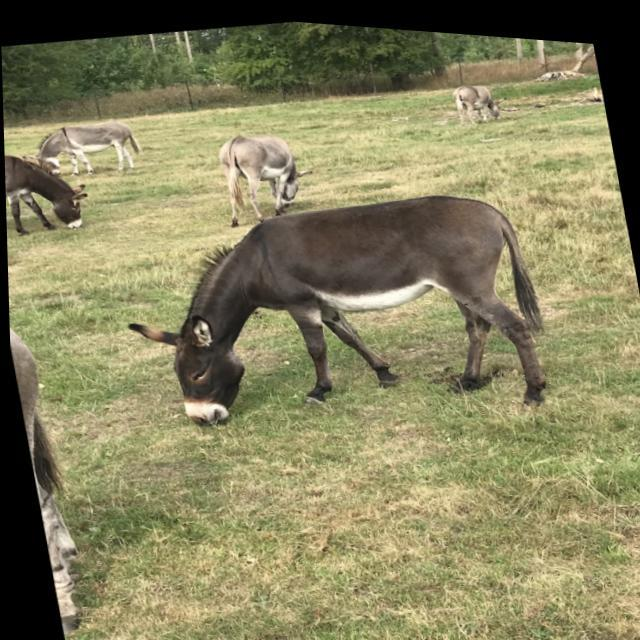Donkey: (101, 153, 559, 462), (211, 117, 322, 230), (13, 106, 146, 188), (3, 138, 94, 245), (446, 69, 509, 124)
